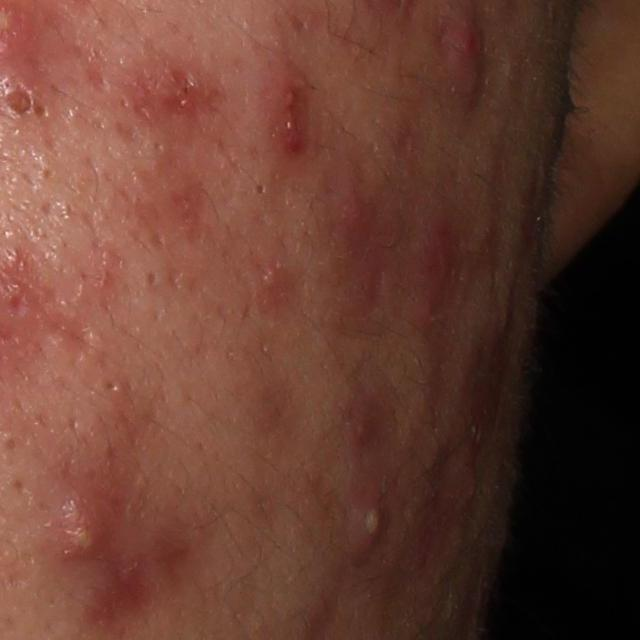atrophic_scar: (427, 426, 473, 553), (37, 306, 91, 362)
comedo: (138, 267, 162, 292), (37, 161, 56, 183), (252, 180, 270, 199)
papule: (112, 48, 222, 132), (327, 172, 375, 258), (273, 83, 311, 159), (259, 263, 290, 298)
pustule: (52, 496, 108, 559), (353, 488, 384, 566)
